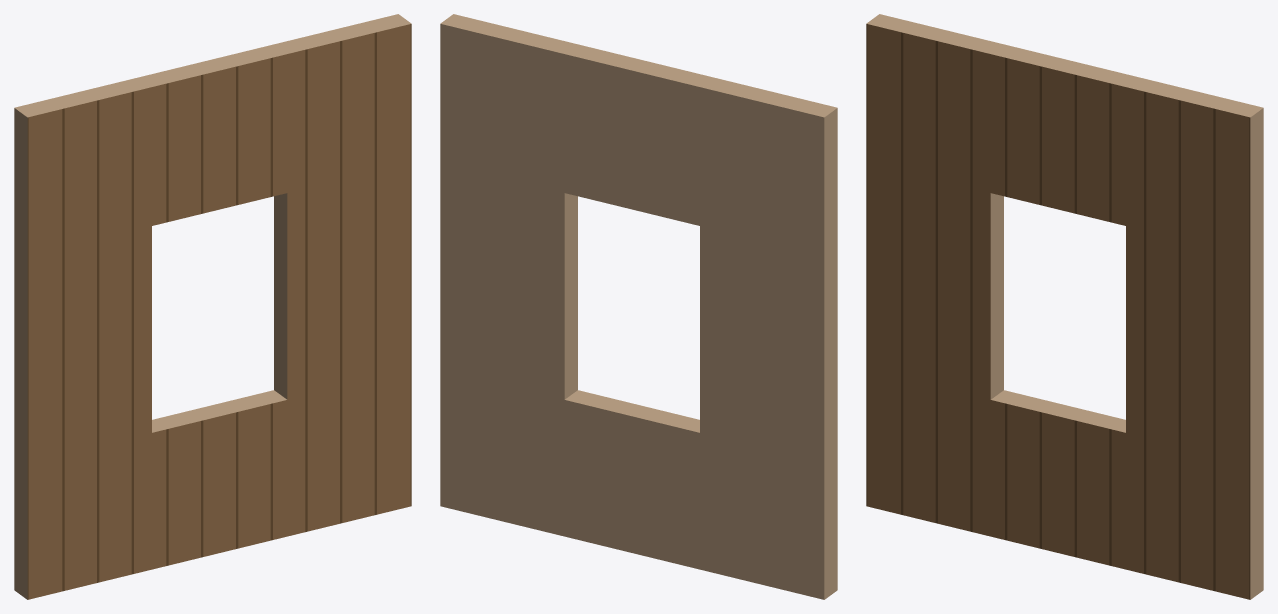
Rendered from Wall2_C9_03.fbx.
The picture shows the model from 3 angles, left to right: view 1: azimuth 30°, elevation 25°; view 2: azimuth 150°, elevation 25°; view 3: azimuth 330°, elevation 25°; orthographic projection.
Parts seen in each view (by area): view 1: Wall2_C9_03; view 2: Wall2_C9_03; view 3: Wall2_C9_03.
Part boxes in pixels (bbox=[...]): Wall2_C9_03: bbox=[14, 14, 411, 599]; Wall2_C9_03: bbox=[440, 14, 837, 599]; Wall2_C9_03: bbox=[866, 14, 1263, 599].
Bounding box in the file's own units: 250 × 300 × 15.
